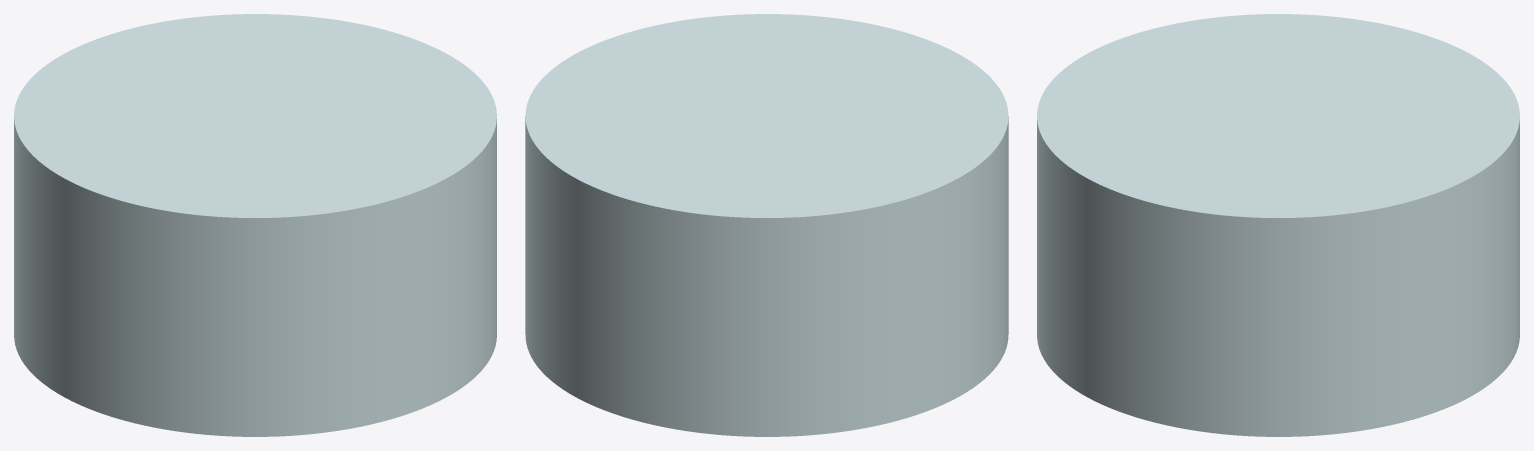
File: septum_d4x2.glb
3 views of the same model, side by side, from view 1: azimuth 30°, elevation 25°; view 2: azimuth 150°, elevation 25°; view 3: azimuth 270°, elevation 25° (orthographic).
Visible parts, largest first — view 1: septum; view 2: septum; view 3: septum.
Part boxes in pixels (x1,y1,x2,y2): septum: (14, 14, 496, 436); septum: (525, 14, 1008, 436); septum: (1037, 14, 1519, 436).
Bounding box in the file's own units: 0.004 × 0.002 × 0.004.
